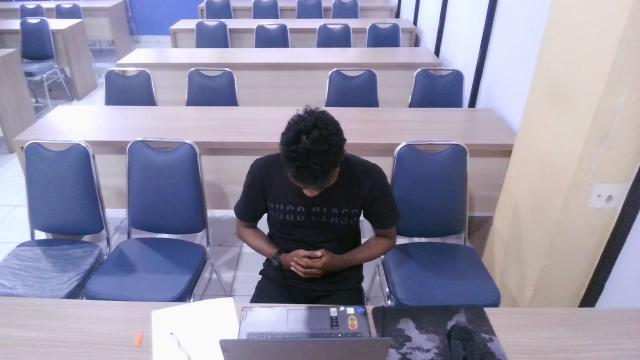Head_Down_Extreme: (224, 99, 401, 307)
